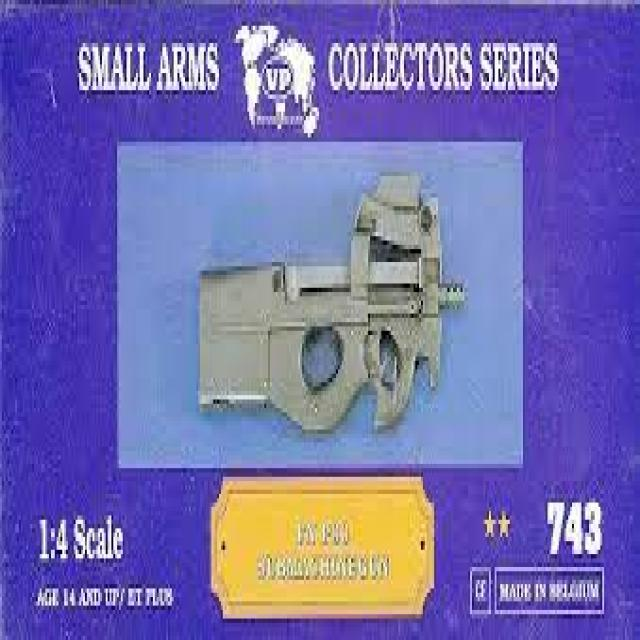Gun: (174, 158, 477, 468)
